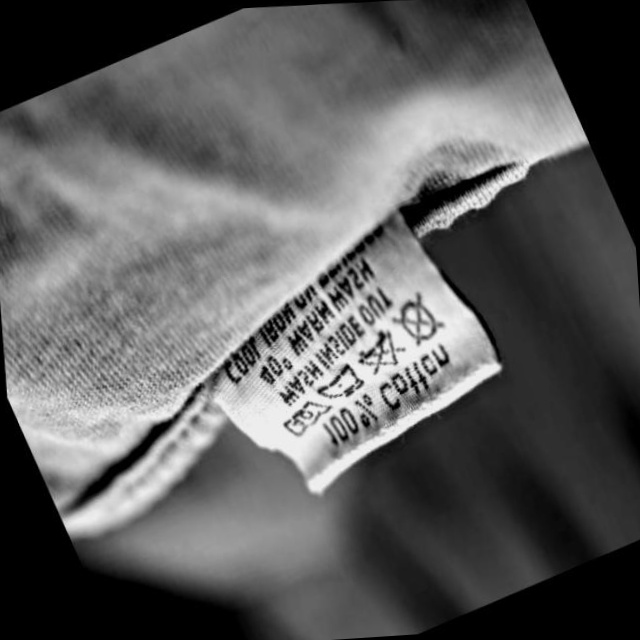40C: (284, 396, 335, 438)
DN_bleach: (357, 328, 404, 377)
DN_dry_clean: (397, 292, 450, 350)
iron_low: (319, 357, 369, 406)
